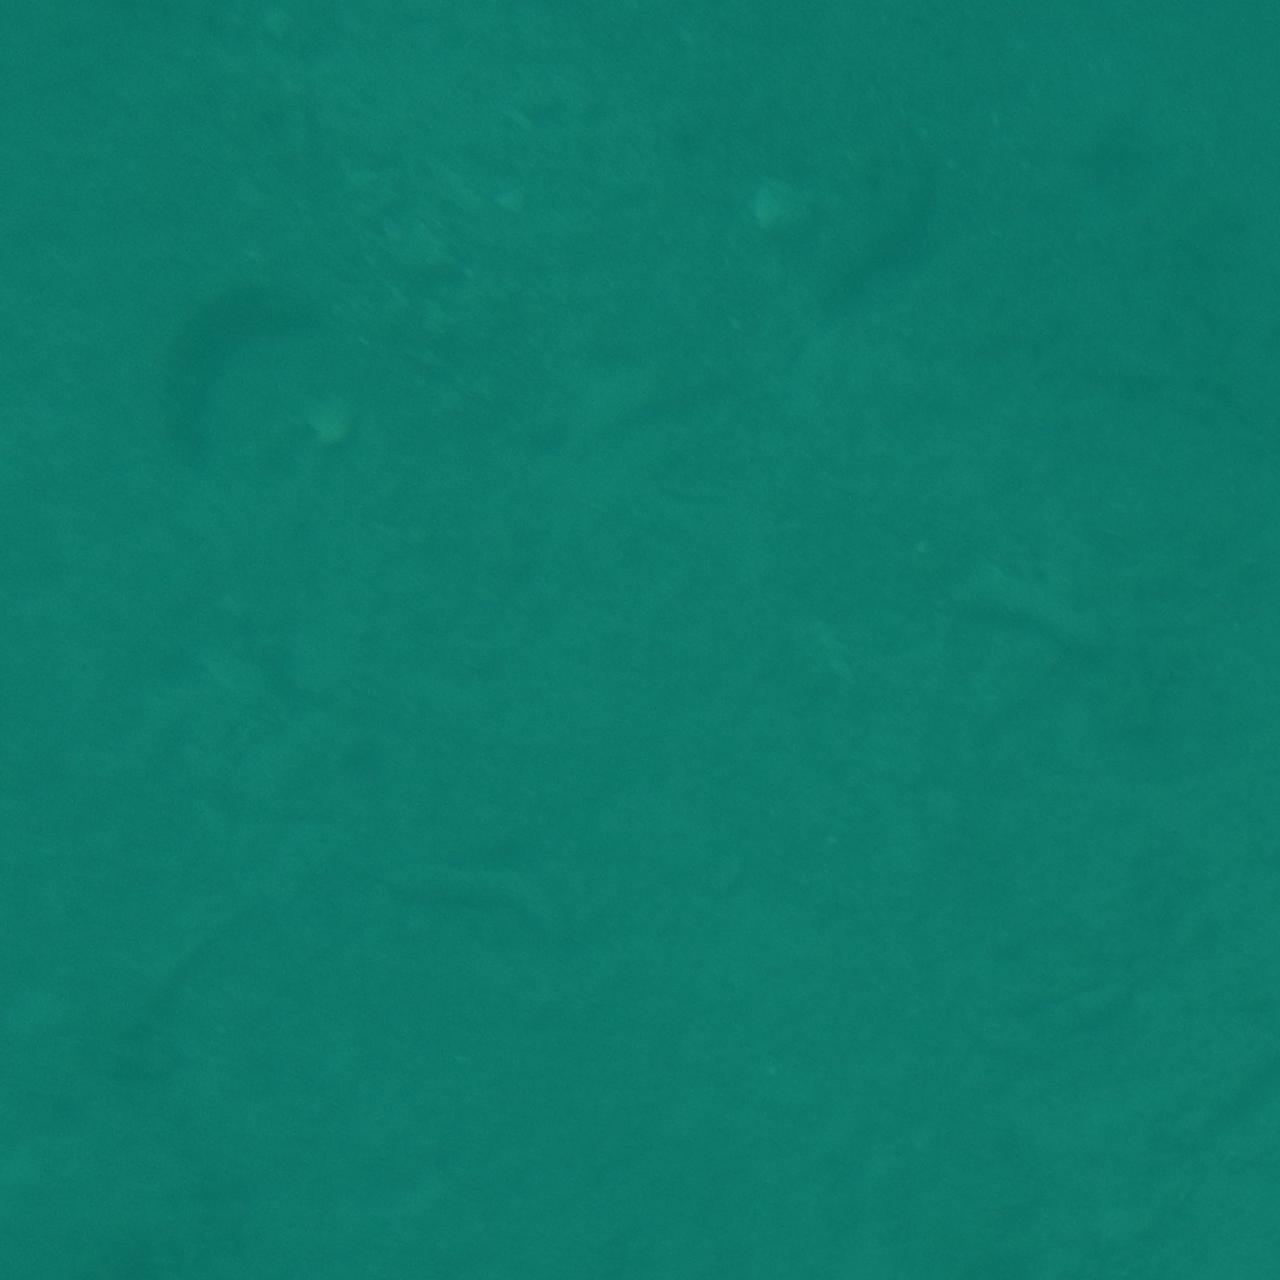Holothuria tubulosa: (109, 243, 363, 525), (917, 509, 1171, 700), (331, 844, 613, 947)
